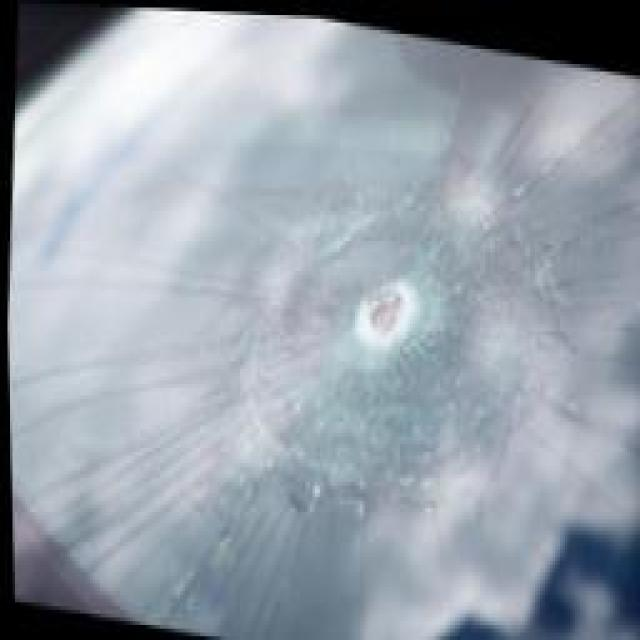Windshield: (6, 1, 640, 640)
